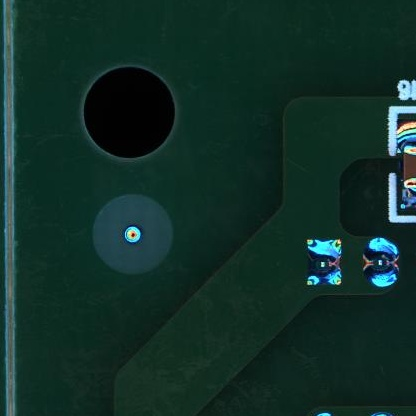spot: (362, 235, 399, 289), (306, 239, 342, 284)
